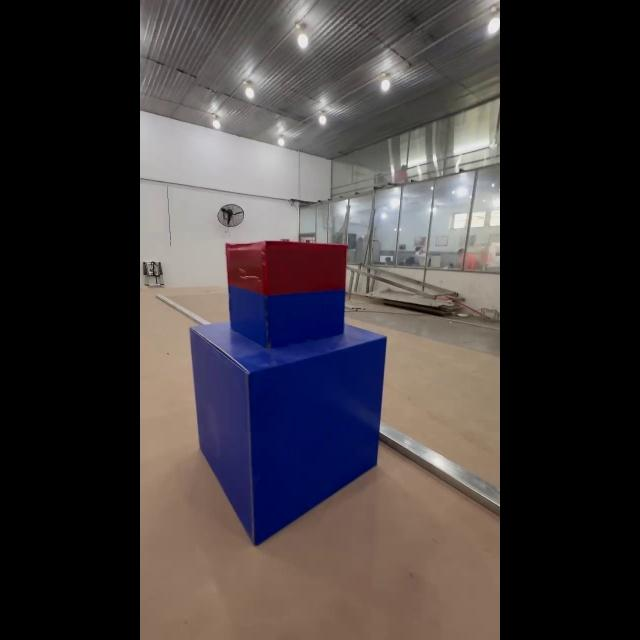earth_block: (174, 322, 390, 546)
sky_block: (226, 237, 350, 349)
